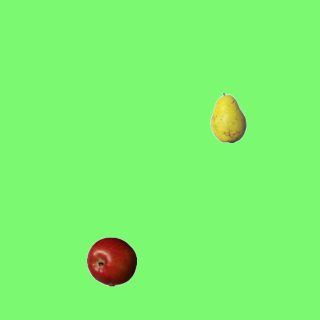Apple Braeburn: (86, 236, 136, 286)
Pear Monster: (203, 92, 253, 142)
